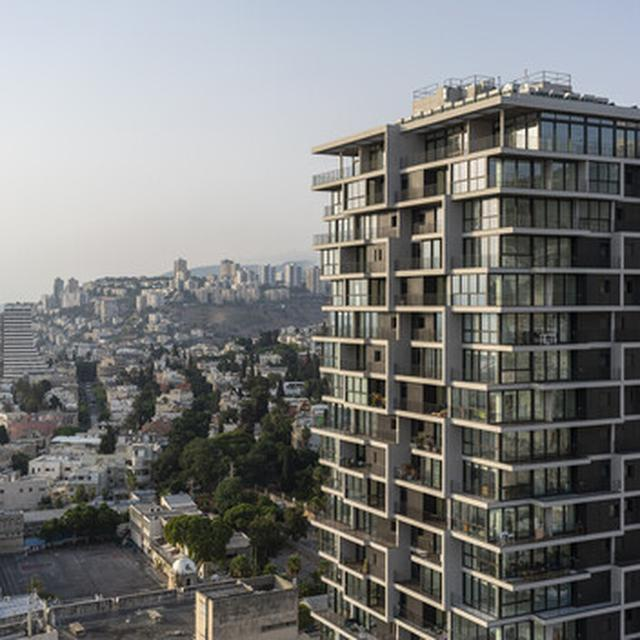building: (307, 72, 640, 640), (2, 300, 38, 383)
